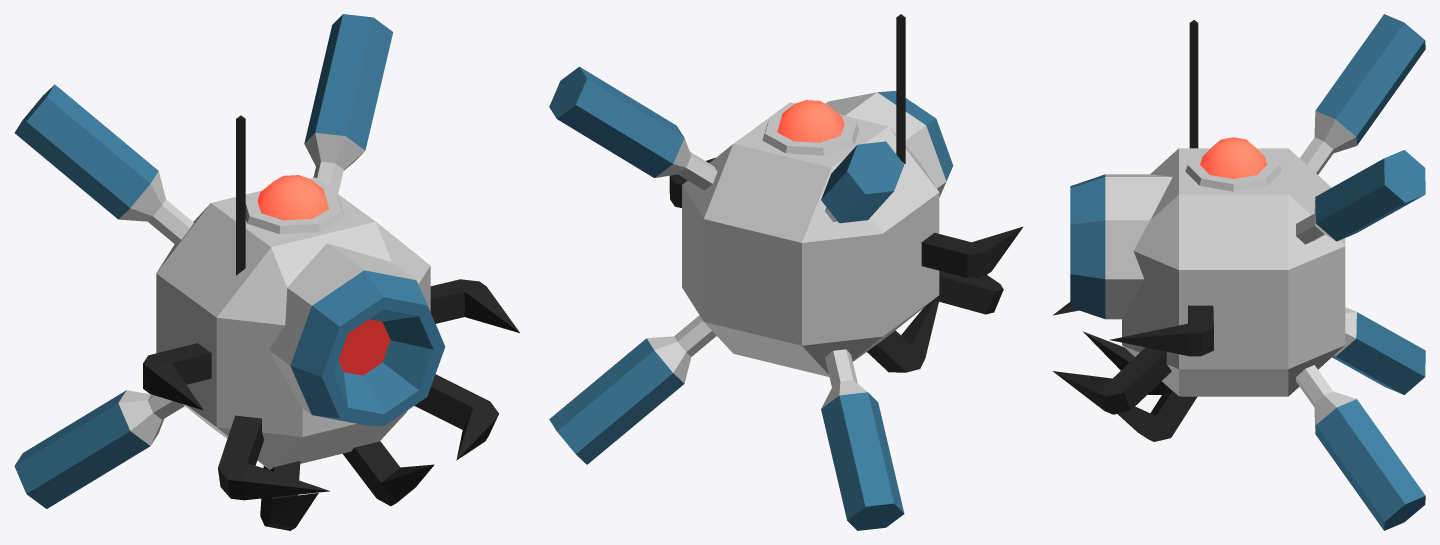
Rendered from Spawn.fbx.
3 views of the same model, side by side, from view 1: azimuth 30°, elevation 25°; view 2: azimuth 150°, elevation 25°; view 3: azimuth 270°, elevation 25° (orthographic). The views are drawn at different scales.
Parts seen in each view (by area): view 1: Spawn_ex, SpawnHealth_ex; view 2: Spawn_ex, SpawnHealth_ex; view 3: Spawn_ex, SpawnHealth_ex.
Part boxes in pixels (x1,y1,x2,y2): Spawn_ex: (14, 14, 519, 530); SpawnHealth_ex: (257, 175, 328, 220); Spawn_ex: (549, 14, 1023, 530); SpawnHealth_ex: (777, 100, 844, 142); Spawn_ex: (1052, 14, 1425, 530); SpawnHealth_ex: (1200, 137, 1266, 178).
Size of the model in its own units: 1.34 by 1.55 by 1.3.
